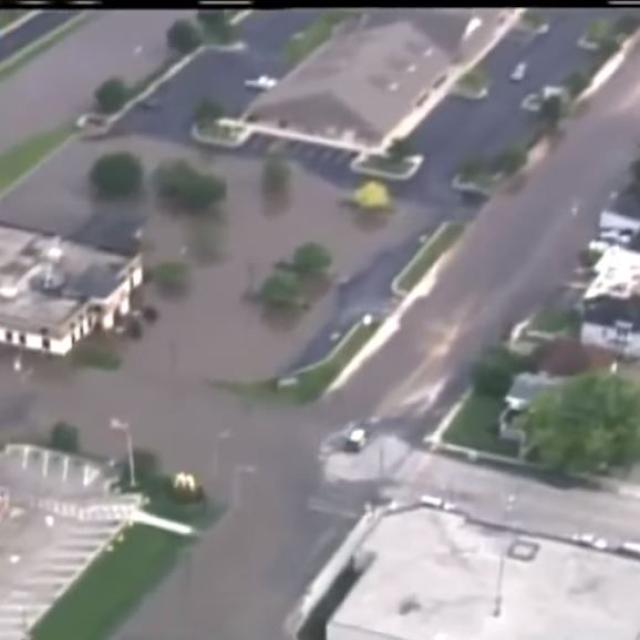flooded_areas: (0, 101, 401, 633)
